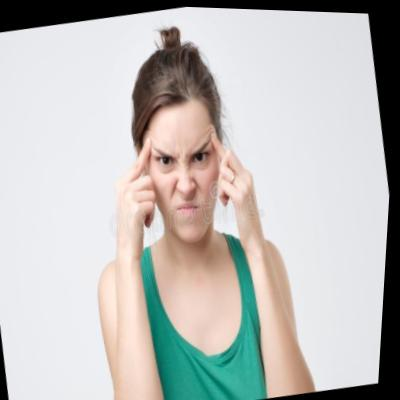angry: (122, 75, 241, 244)
